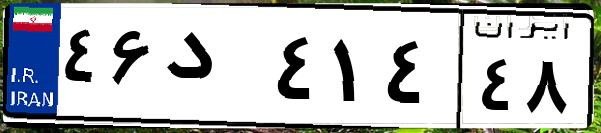1: (330, 28, 385, 110)
4: (270, 28, 330, 110), (385, 28, 445, 110), (57, 26, 110, 100), (475, 38, 525, 113)
6: (110, 28, 158, 98)
8: (525, 38, 570, 115)
د: (158, 20, 270, 120)
